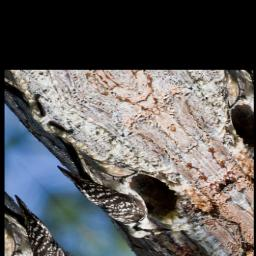Woodpecker: (32, 113, 188, 256)
